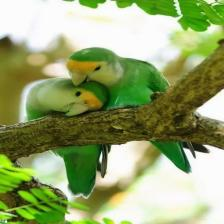green: (66, 47, 169, 110), (112, 0, 224, 31), (0, 186, 88, 224), (54, 145, 110, 198), (0, 155, 33, 195), (152, 141, 191, 173), (26, 89, 51, 120), (35, 211, 63, 224), (79, 0, 106, 8)
